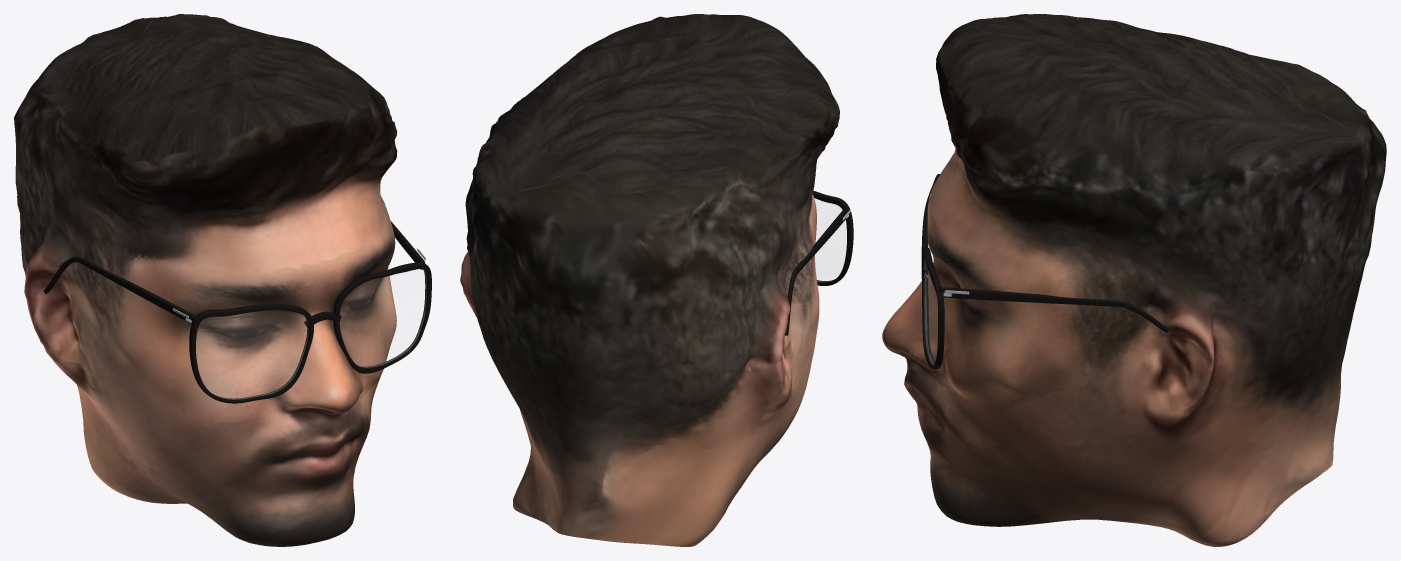
The picture shows the model from 3 angles, left to right: view 1: azimuth 30°, elevation 25°; view 2: azimuth 150°, elevation 25°; view 3: azimuth 270°, elevation 25°; orthographic projection. The views are drawn at different scales.
Visible parts, largest first — view 1: world, Eyeglass rim 1, Eyeglass rim 2, Eyeglass temple 1; view 2: world, Eyeglass rim 1, Eyeglass temple 1; view 3: world, Eyeglass temple 2, Eyeglass rim 2.
Boxes of the visible parts, x1,y1,x2,y2 form: world: (14,14,397,546); Eyeglass rim 1: (189,303,313,403); Eyeglass rim 2: (333,262,431,373); Eyeglass temple 1: (43,256,196,323); world: (460,14,839,546); Eyeglass rim 1: (812,190,853,285); Eyeglass temple 1: (785,207,849,335); world: (882,14,1386,546); Eyeglass temple 2: (939,287,1169,332); Eyeglass rim 2: (921,248,944,368).
Size of the model in its own units: 0.2263 by 0.3068 by 0.2949.
Materials: 7 (1 with a texture image).
